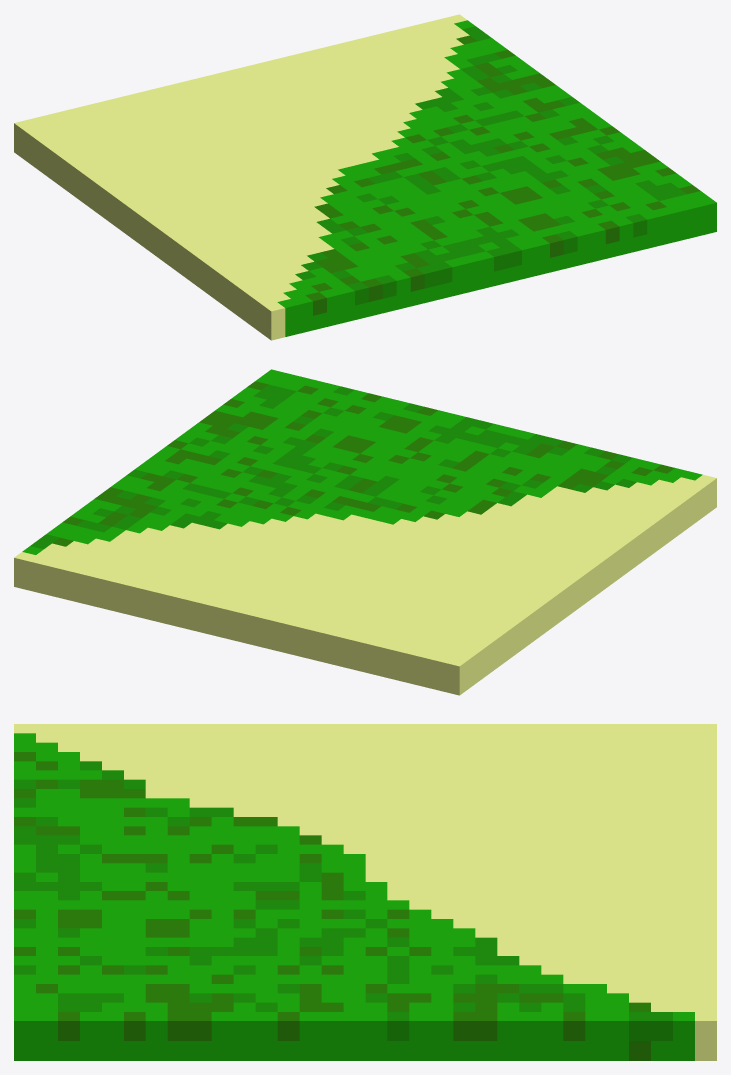
Rendered from gras-zand2.obj.
3 views of the same model, one above another, from view 1: azimuth 30°, elevation 25°; view 2: azimuth 150°, elevation 25°; view 3: azimuth 270°, elevation 25° (orthographic). The views are drawn at different scales.
Parts seen in each view (by area): view 1: gras-zand2; view 2: gras-zand2; view 3: gras-zand2.
Part boxes in pixels (x1,y1,x2,y2): gras-zand2: [14, 14, 716, 340]; gras-zand2: [14, 369, 716, 695]; gras-zand2: [14, 724, 716, 1060].
Size of the model in its own units: 32 by 2 by 32.
1 material, 1 textured.
